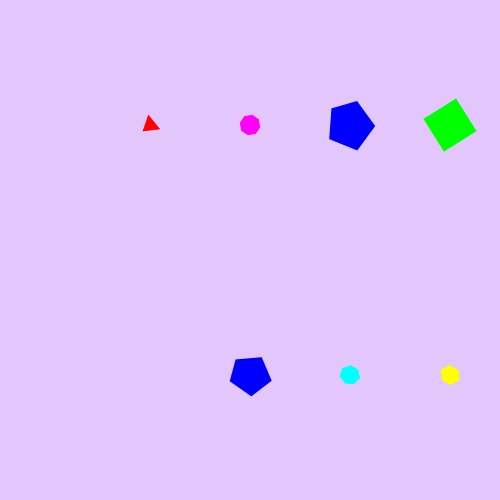heptagon: (336, 361, 365, 389)
hexagon: (435, 362, 465, 388)
octagon: (235, 110, 265, 140)
pentagon: (323, 98, 377, 152), (226, 351, 274, 399)
quadrilateral: (420, 95, 480, 155)
triangle: (138, 112, 163, 138)
